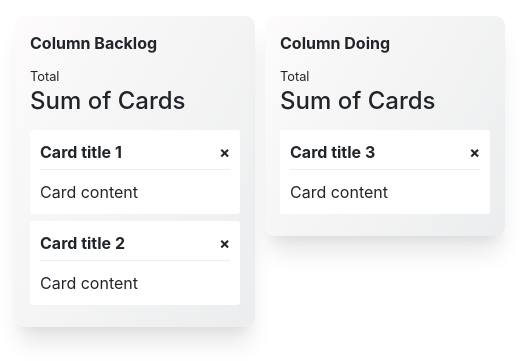
Test: <Board /> › when the board is uncontrolled › about the card removing › when the component uses the default card template › when the component receives the "allowRemoveCard" prop › when the user clicks to remove a card from a column › removes the card from the column
Click the 1st text "×" at (225, 152), box [219,140,230,164]
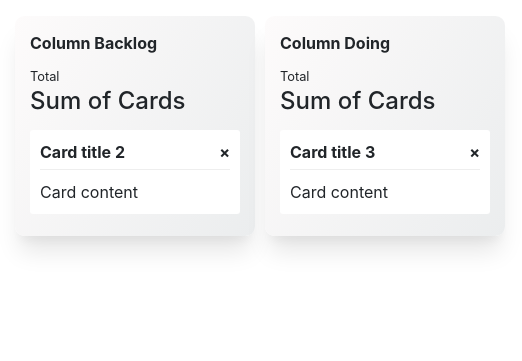
expect the text "Card title 2" is shown: met, box [40,140,125,164]
expect the text "Card title 2" is shown 2 times: met, box [40,140,125,164]; [290,140,375,164]
